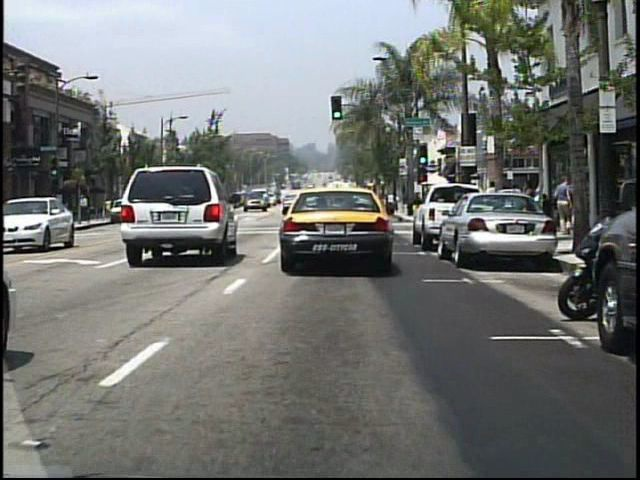person: (518, 177, 539, 235), (554, 176, 573, 235)
